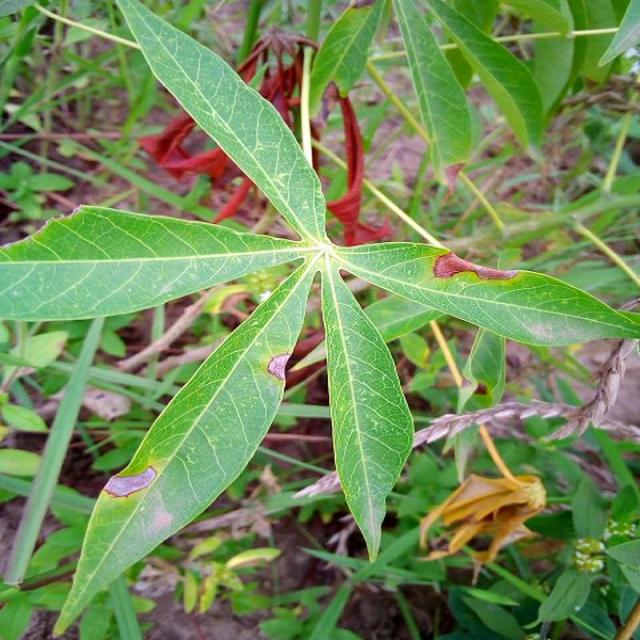cassava leaf: (1, 0, 638, 633), (51, 252, 319, 636), (114, 0, 327, 244), (0, 202, 313, 322), (335, 239, 639, 348), (318, 252, 416, 563)
